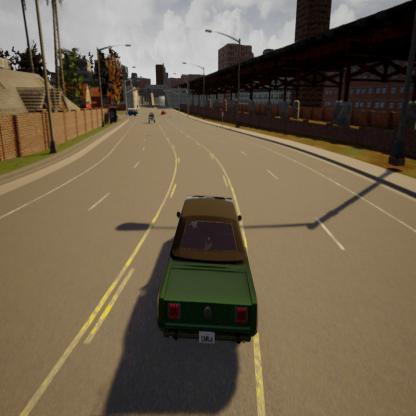Cars: (156, 194, 257, 342), (127, 105, 138, 117), (148, 111, 156, 123), (160, 106, 166, 116)
